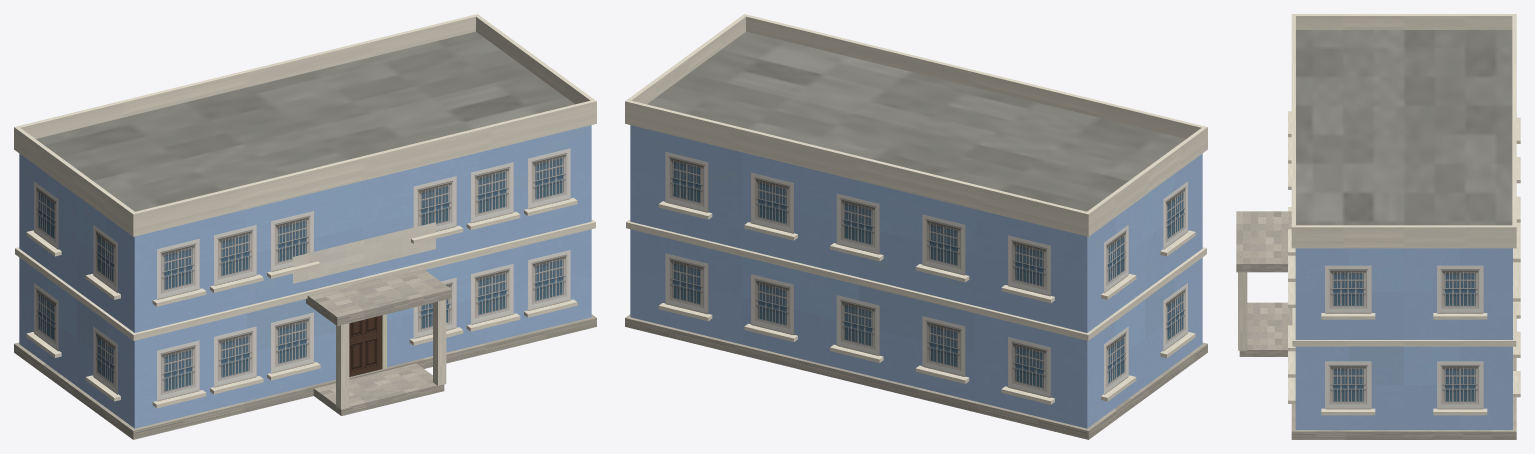
Rendered from school-sky.glb.
3 renders of one model, left to right at view 1: azimuth 30°, elevation 25°; view 2: azimuth 150°, elevation 25°; view 3: azimuth 270°, elevation 25°, orthographic. The views are drawn at different scales.
Parts seen in each view (by area): view 1: school-sky, sign_1; view 2: school-sky; view 3: school-sky.
Boxes of the visible parts, x1,y1,x2,y2 form: school-sky: (14,14,596,439); sign_1: (293,222,435,283); school-sky: (625,14,1207,439); school-sky: (1236,14,1520,439).
Bounding box in the file's own units: 16.48 × 7.55 × 9.14.
1 material, 1 textured.
